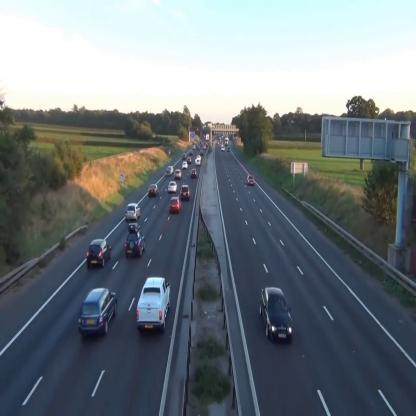car: (77, 286, 118, 337), (259, 287, 293, 341), (137, 277, 170, 332), (86, 238, 111, 268), (124, 231, 146, 256), (125, 202, 141, 221), (169, 196, 182, 214), (180, 184, 190, 200), (148, 184, 159, 196), (168, 180, 178, 192), (247, 176, 255, 186), (174, 169, 182, 178), (168, 166, 174, 174), (182, 161, 188, 168), (191, 168, 196, 176), (187, 158, 191, 162)
